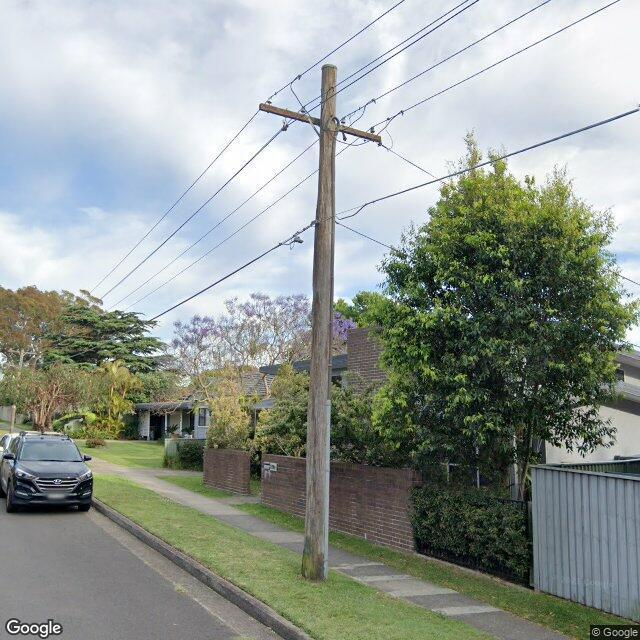crossarm: (258, 103, 382, 143), (7, 347, 37, 357)
timber-pole: (301, 64, 337, 582), (9, 348, 25, 435)
